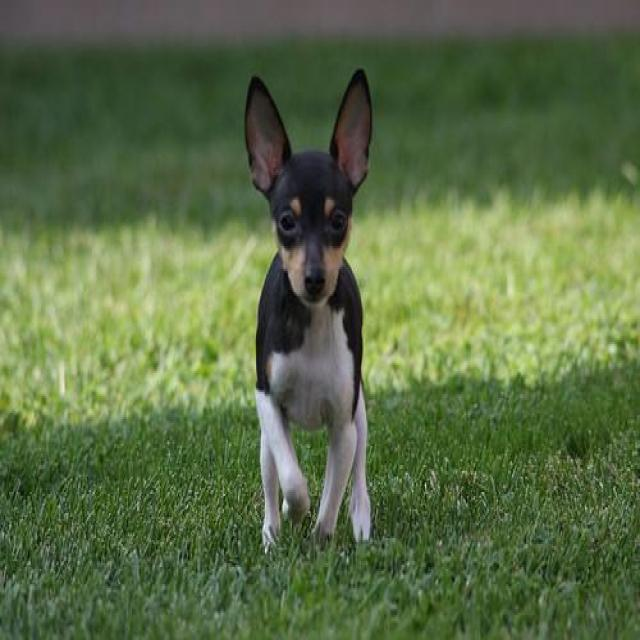toy_terrier: (242, 65, 372, 548)
